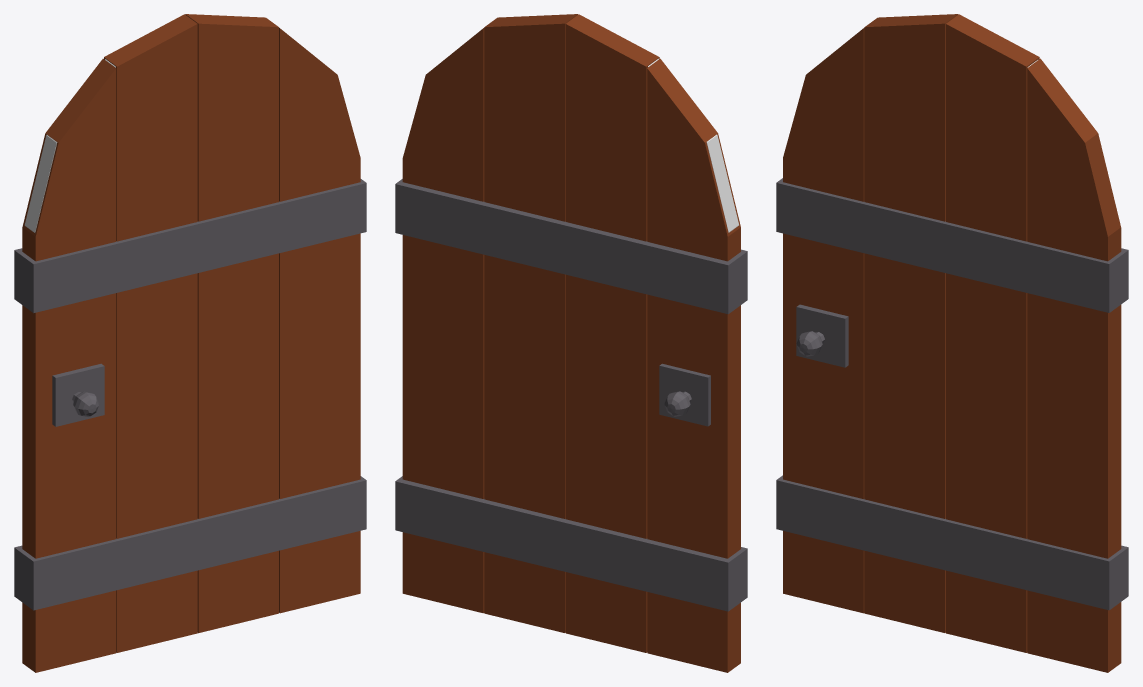
File: door.fbx
3 views of the same model, side by side, from view 1: azimuth 30°, elevation 25°; view 2: azimuth 150°, elevation 25°; view 3: azimuth 330°, elevation 25° (orthographic).
Visible parts, largest first — view 1: Circle.003, Cube, Circle.001; view 2: Circle.003, Cube, Circle.001; view 3: Circle.003, Cube.
Boxes of the visible parts, x1,y1,x2,y2 form: Circle.003: (22,14,360,672); Cube: (14,179,366,610); Circle.001: (24,59,115,232); Circle.003: (402,14,740,672); Cube: (395,179,747,611); Circle.001: (648,58,738,232); Circle.003: (783,14,1121,672); Cube: (776,178,1128,610).
Size of the model in its own units: 206 by 361 by 52.66.
